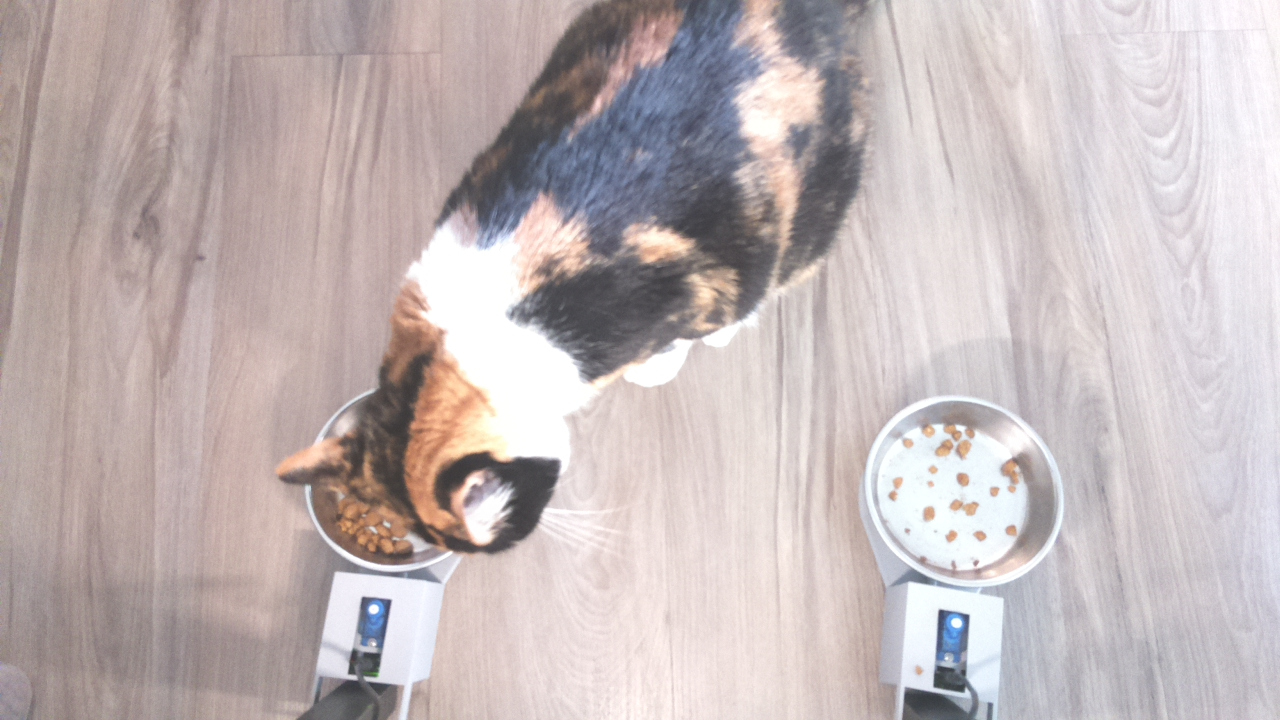bella_eating: (294, 323, 590, 572)
open_bowl: (856, 394, 1069, 594)
